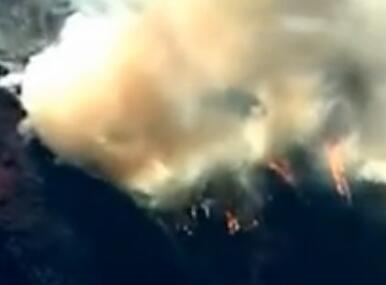smoke: (8, 1, 386, 213)
